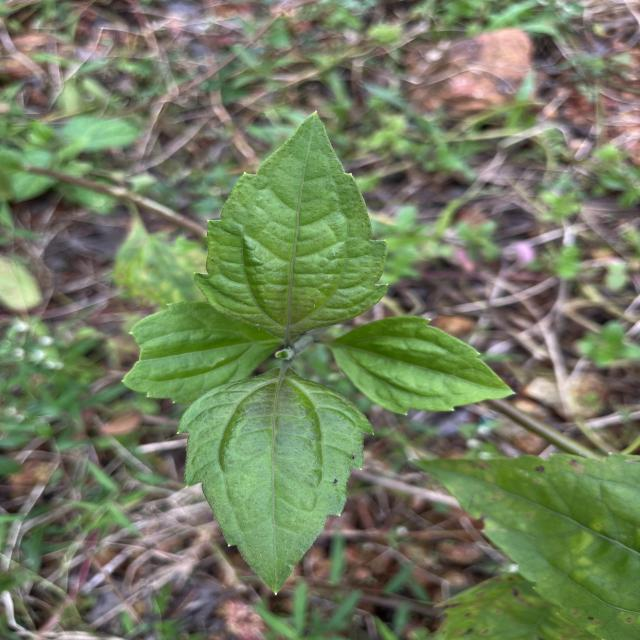Chromolaena odorata: (173, 360, 378, 600), (190, 107, 394, 340)
